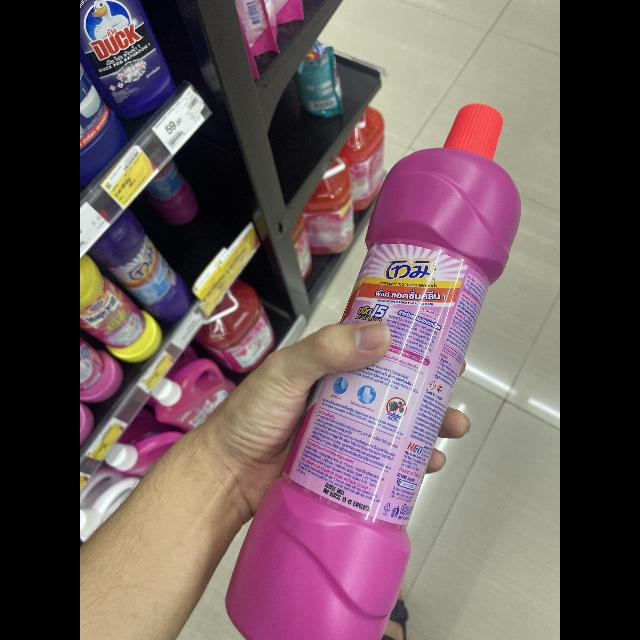chemical_plastic_bottle: (206, 94, 528, 640)
